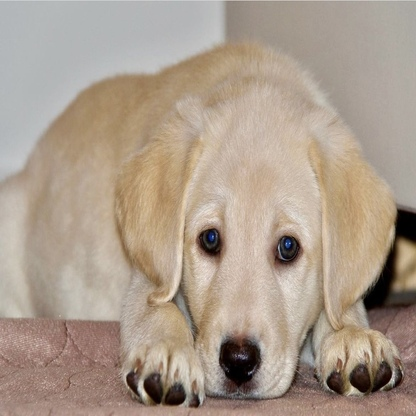labrado: (1, 35, 407, 410)
